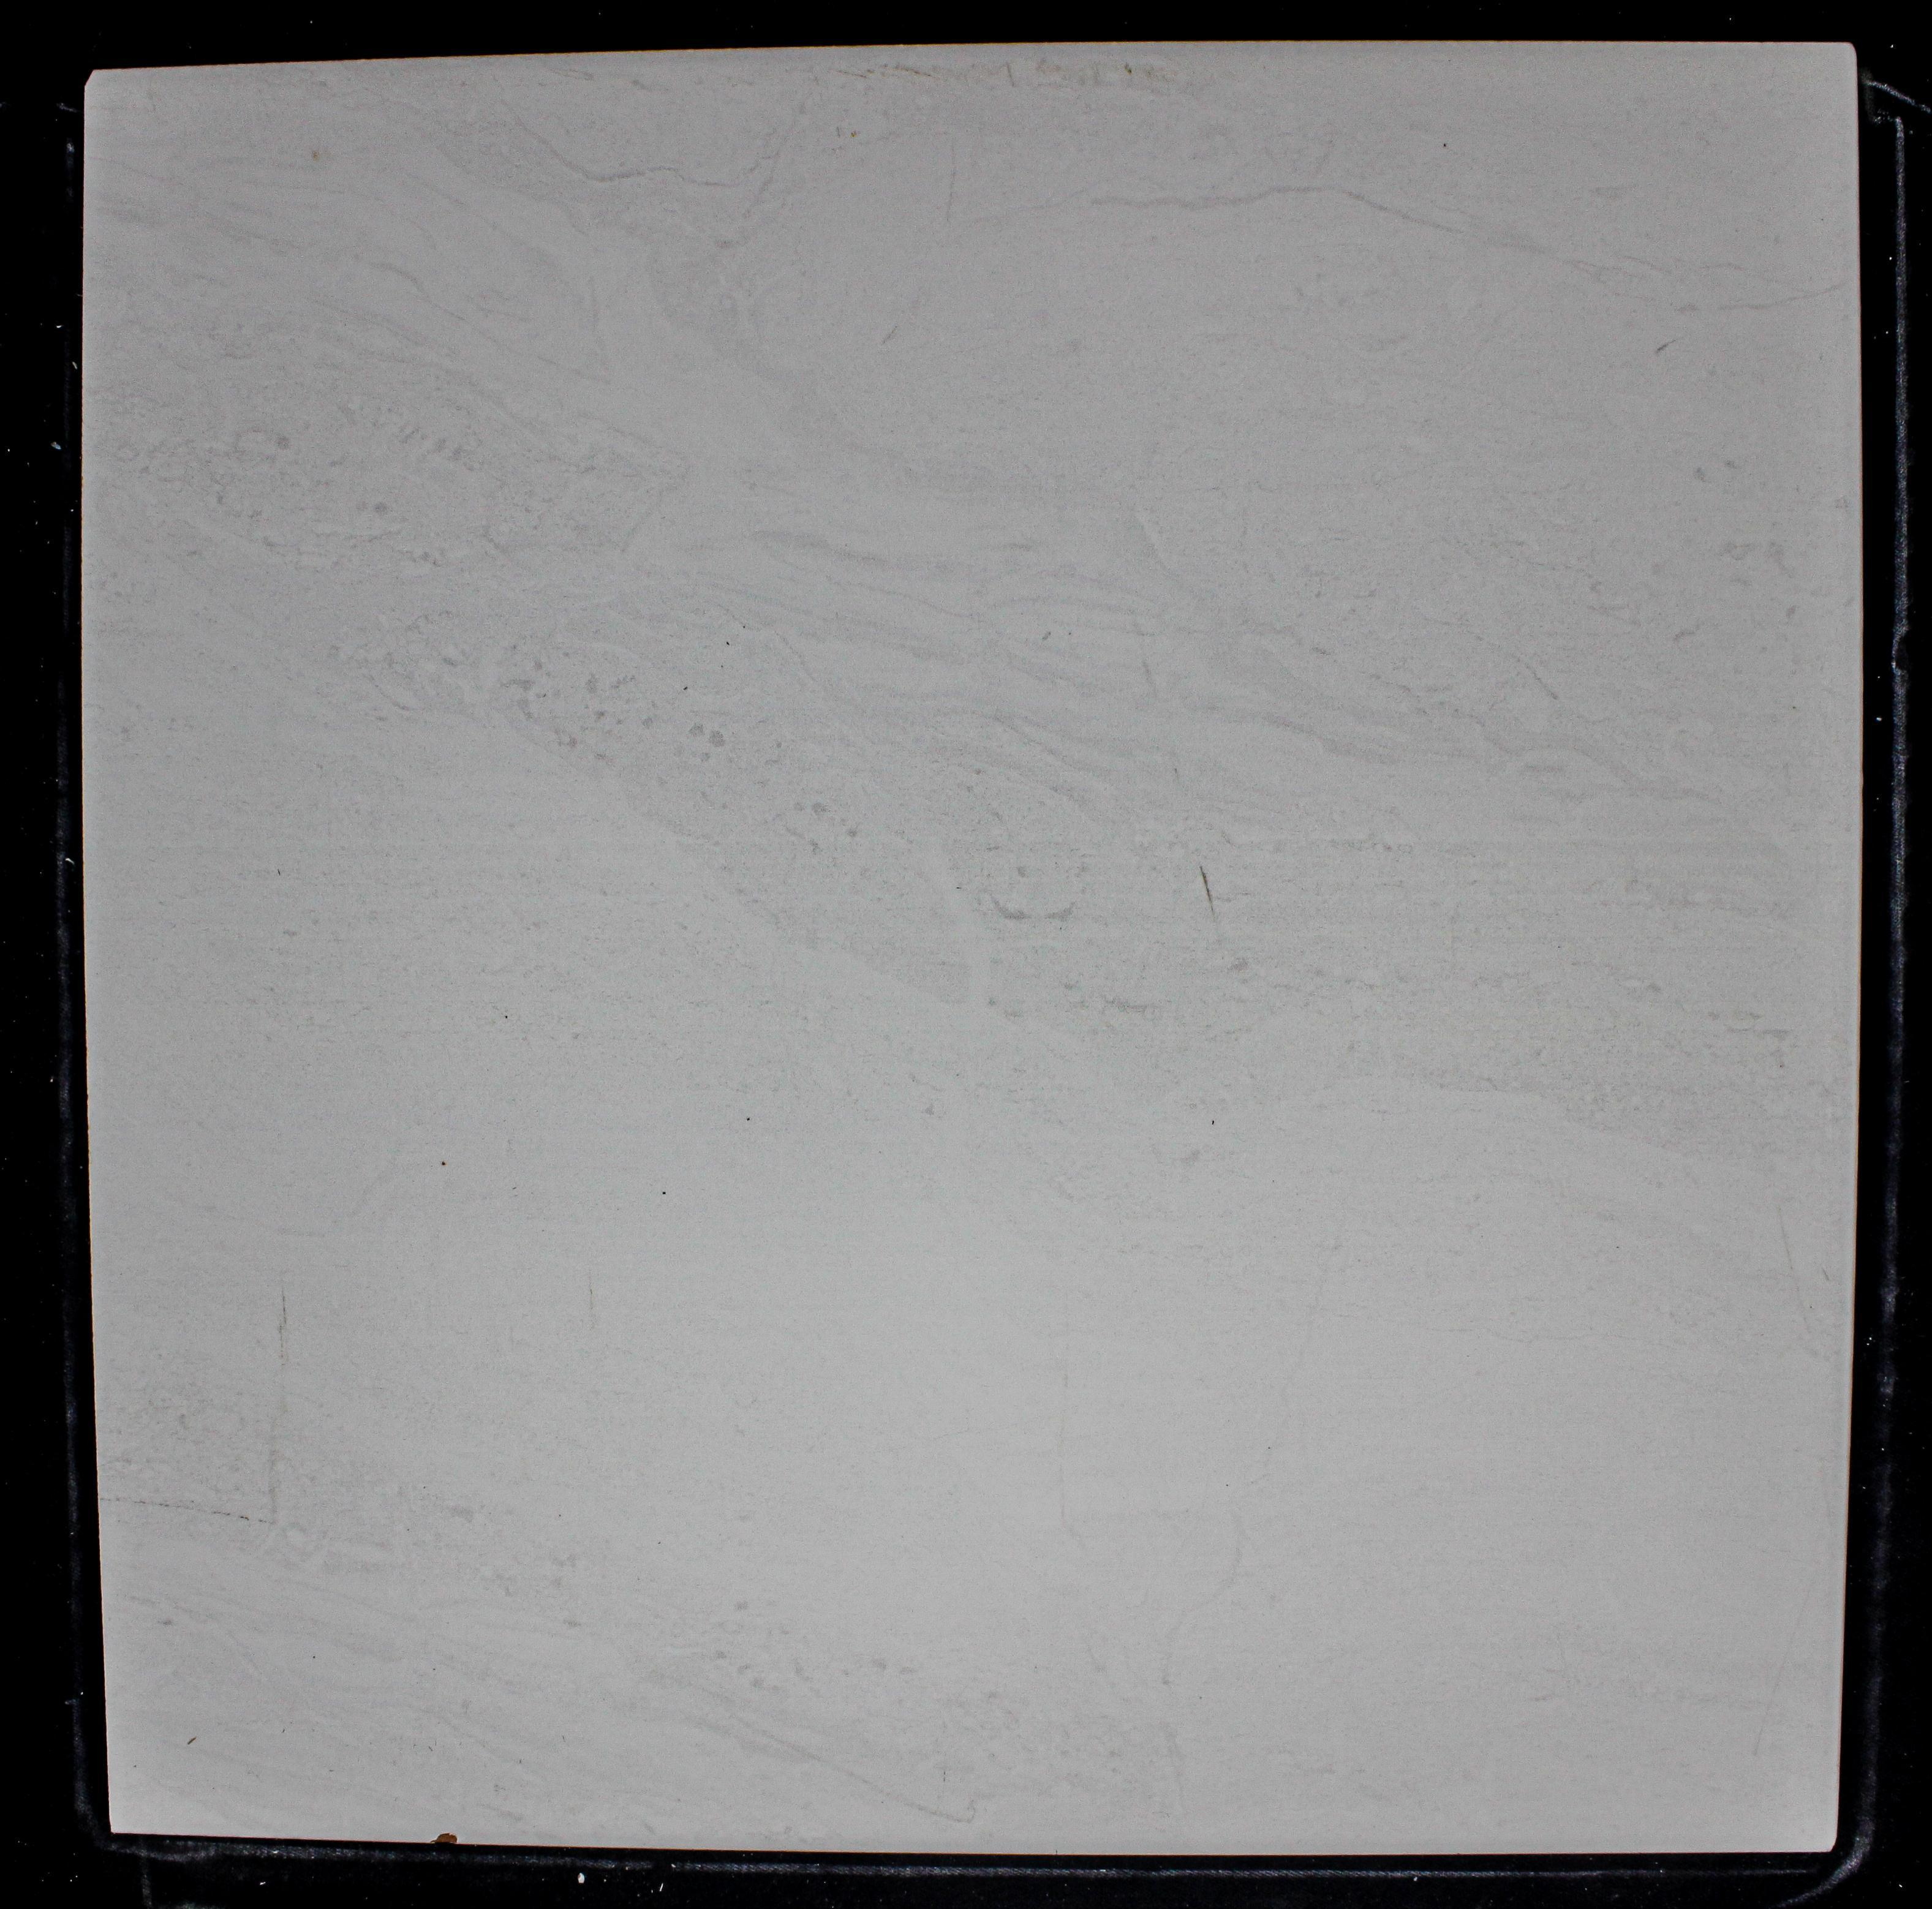edge-chipping: (428, 1832, 458, 1846)
line: (133, 1498, 275, 1526), (1198, 858, 1217, 916), (276, 1283, 288, 1364)
